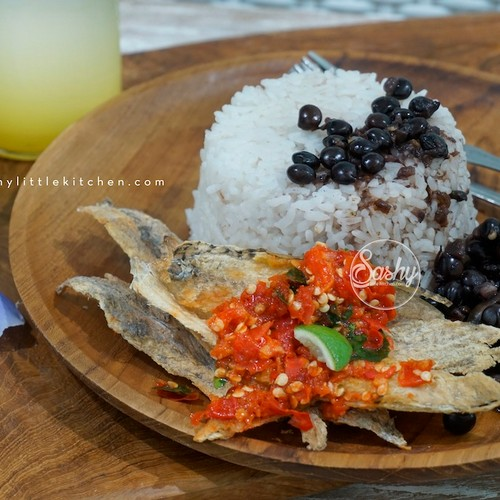sudang lepet: (60, 196, 486, 443)
